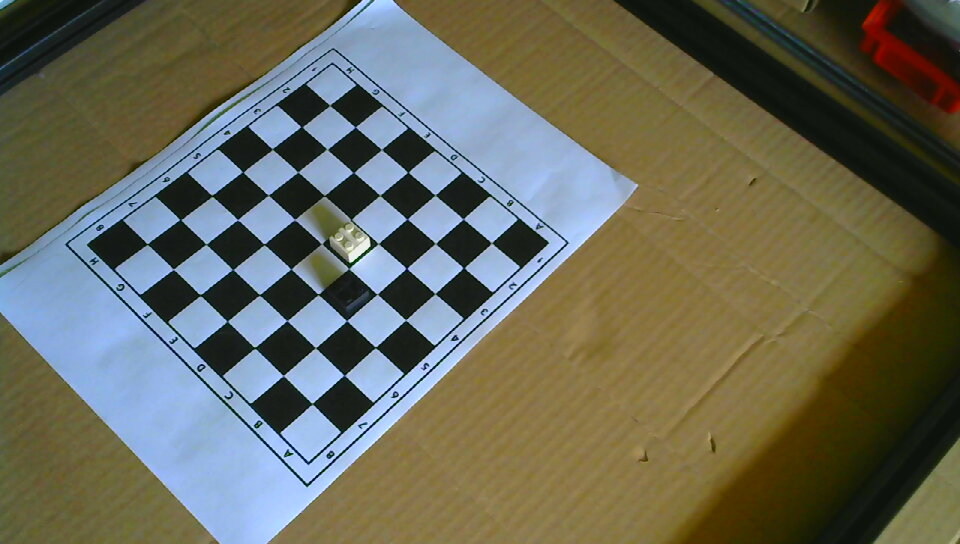bp: (323, 268, 371, 316)
wp: (327, 220, 373, 264)
